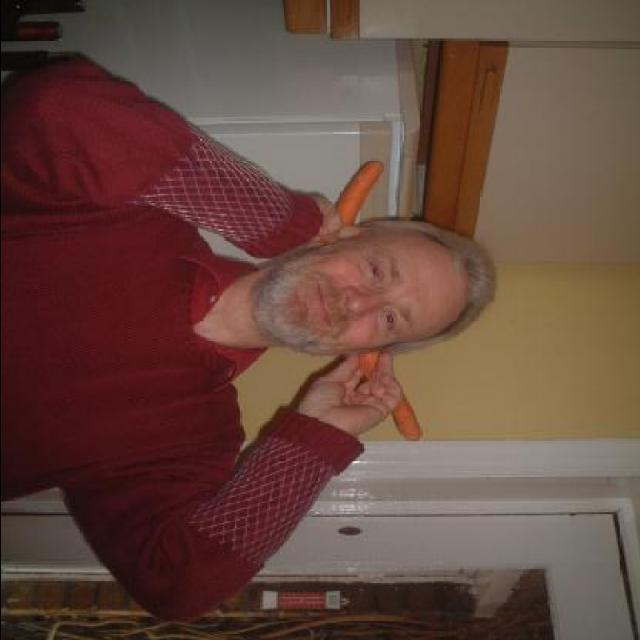Carrot: (318, 158, 389, 246), (360, 348, 424, 442)
